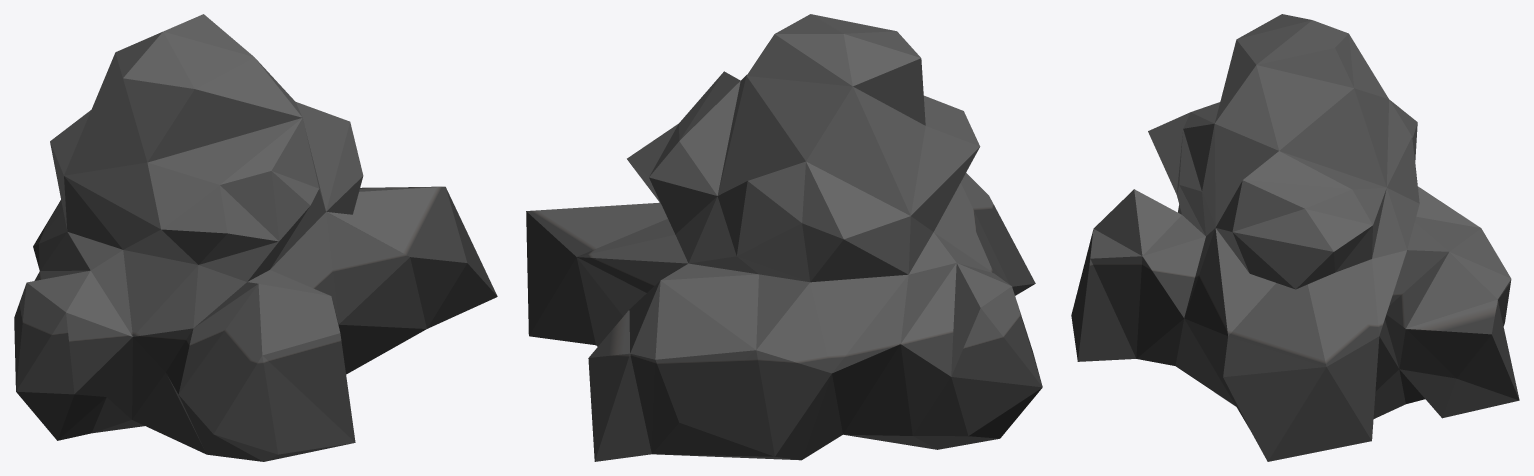
Rendered from rock04.fbx.
3 views of the same model, side by side, from view 1: azimuth 30°, elevation 25°; view 2: azimuth 150°, elevation 25°; view 3: azimuth 270°, elevation 25° (orthographic). The views are drawn at different scales.
Parts seen in each view (by area): view 1: ROCK4; view 2: ROCK4; view 3: ROCK4.
Boxes of the visible parts, x1,y1,x2,y2 form: ROCK4: [14, 14, 497, 461]; ROCK4: [526, 14, 1042, 461]; ROCK4: [1071, 14, 1519, 461].
Size of the model in its own units: 870 by 655 by 760.
1 material, 1 textured.
